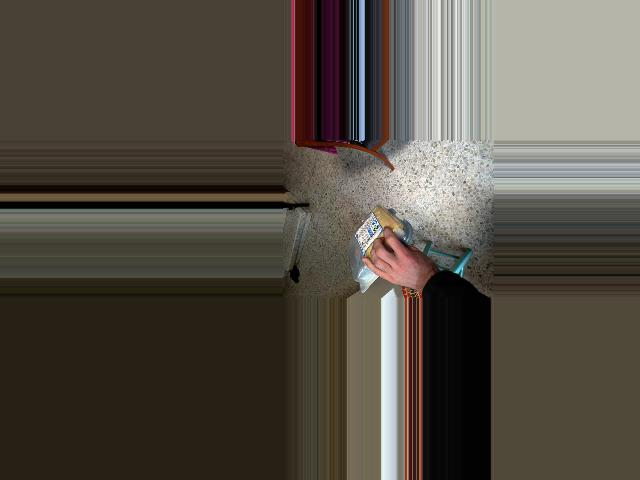cheese: (353, 194, 396, 293)
